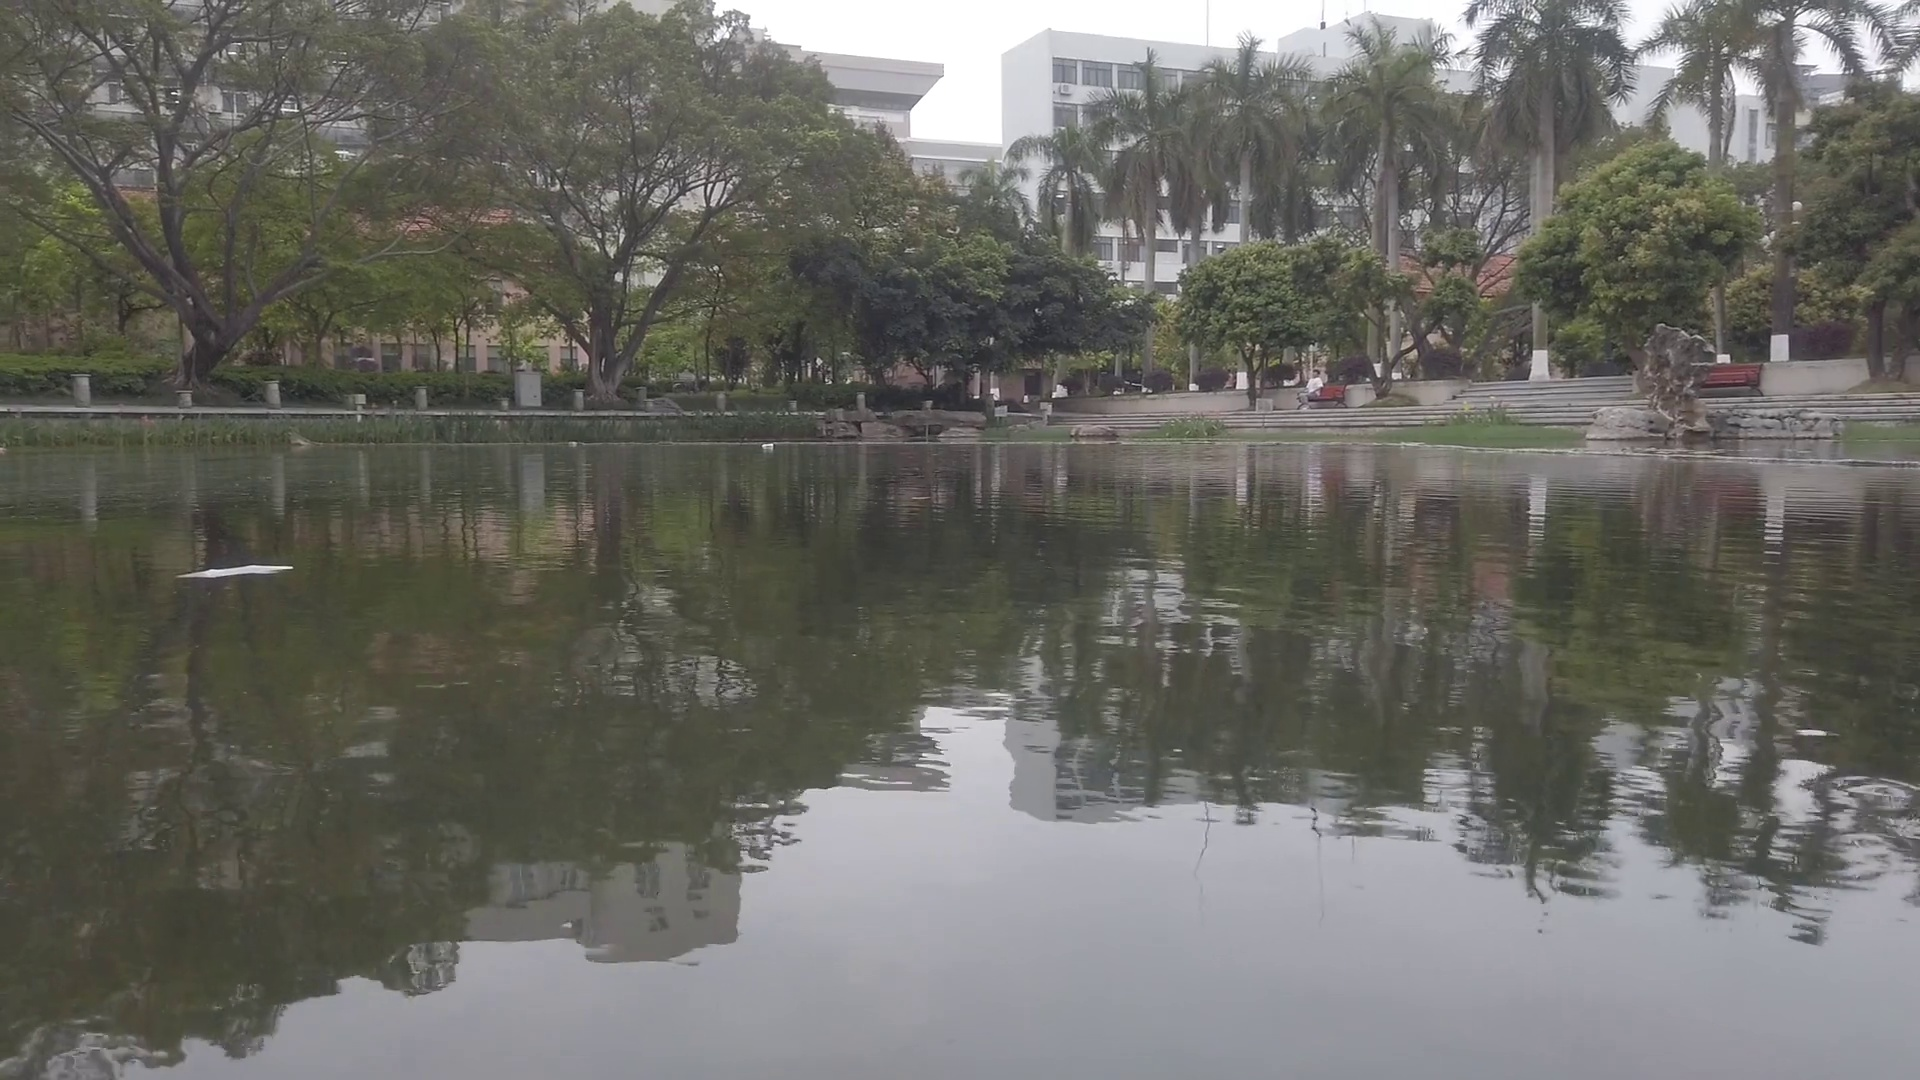bottle: (762, 442, 774, 448)
paper: (186, 556, 295, 582)
